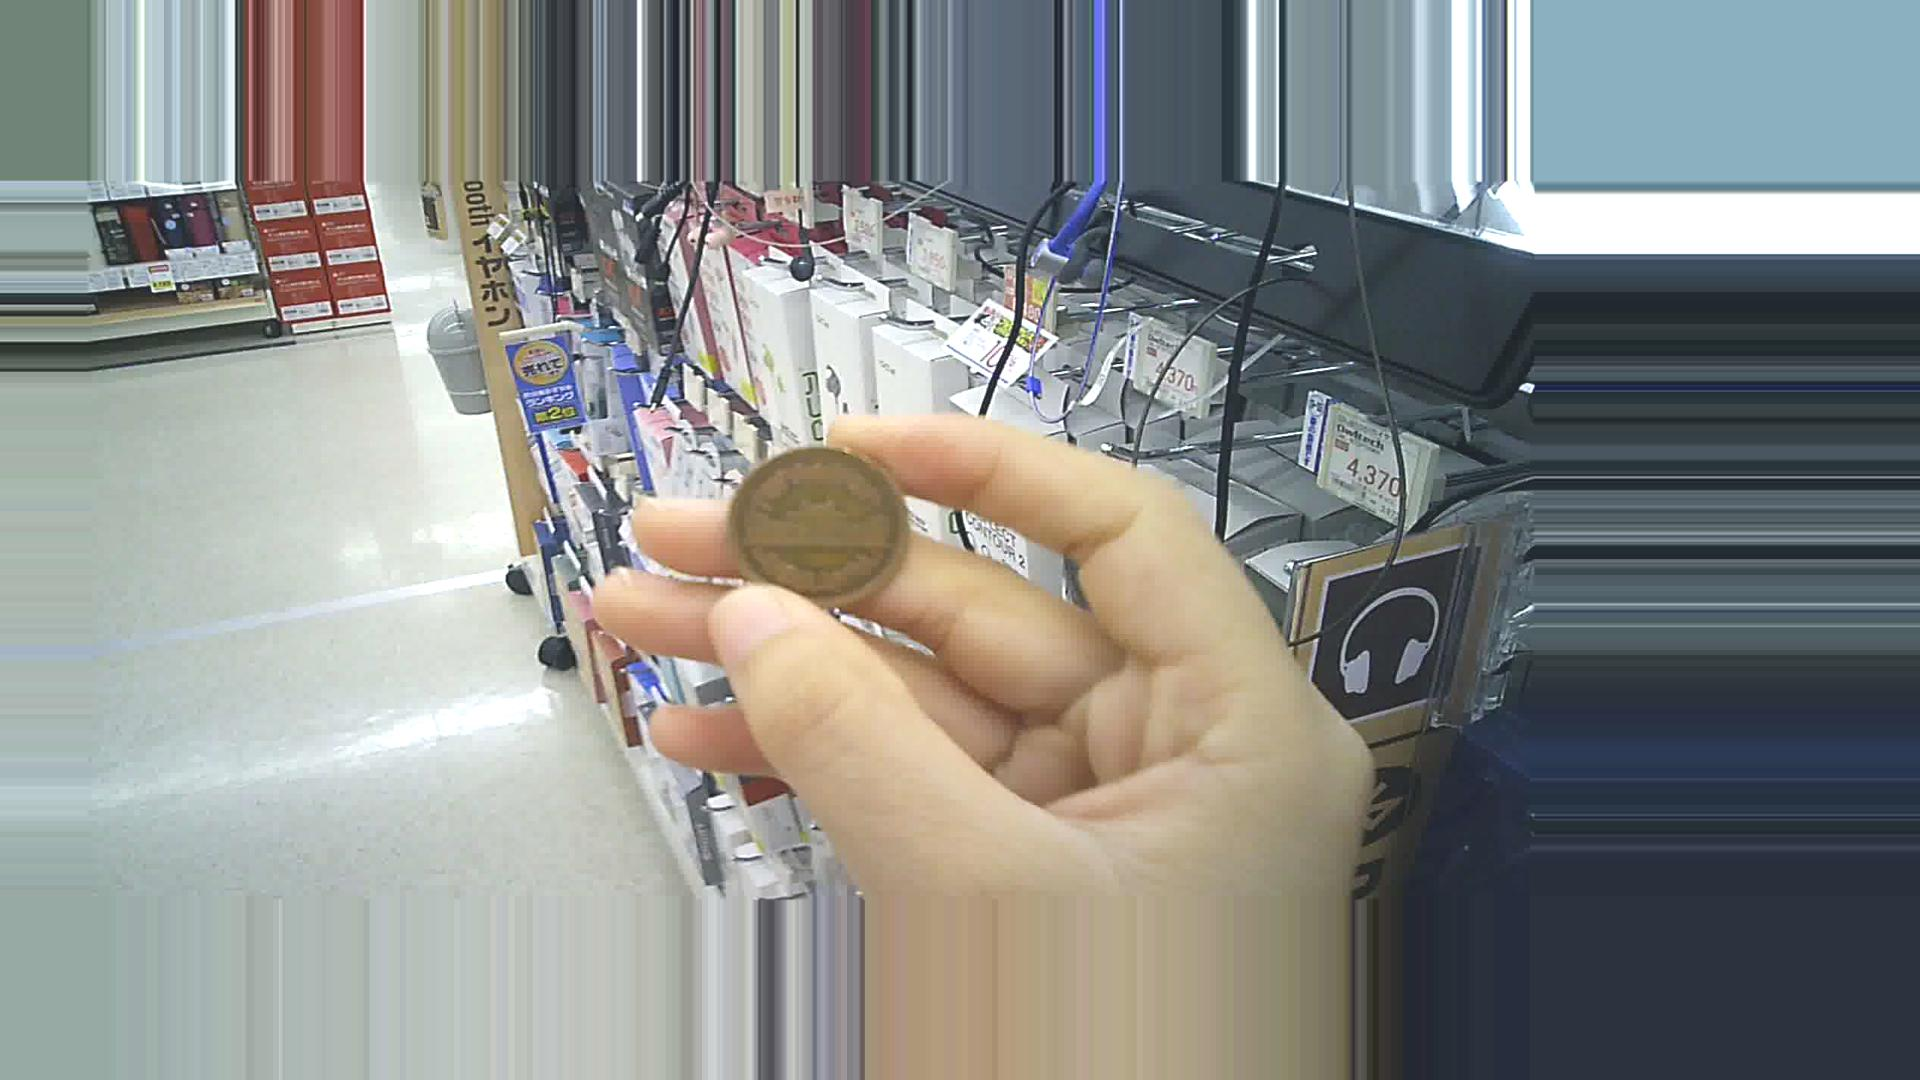10 Yen: (713, 440, 915, 620)
